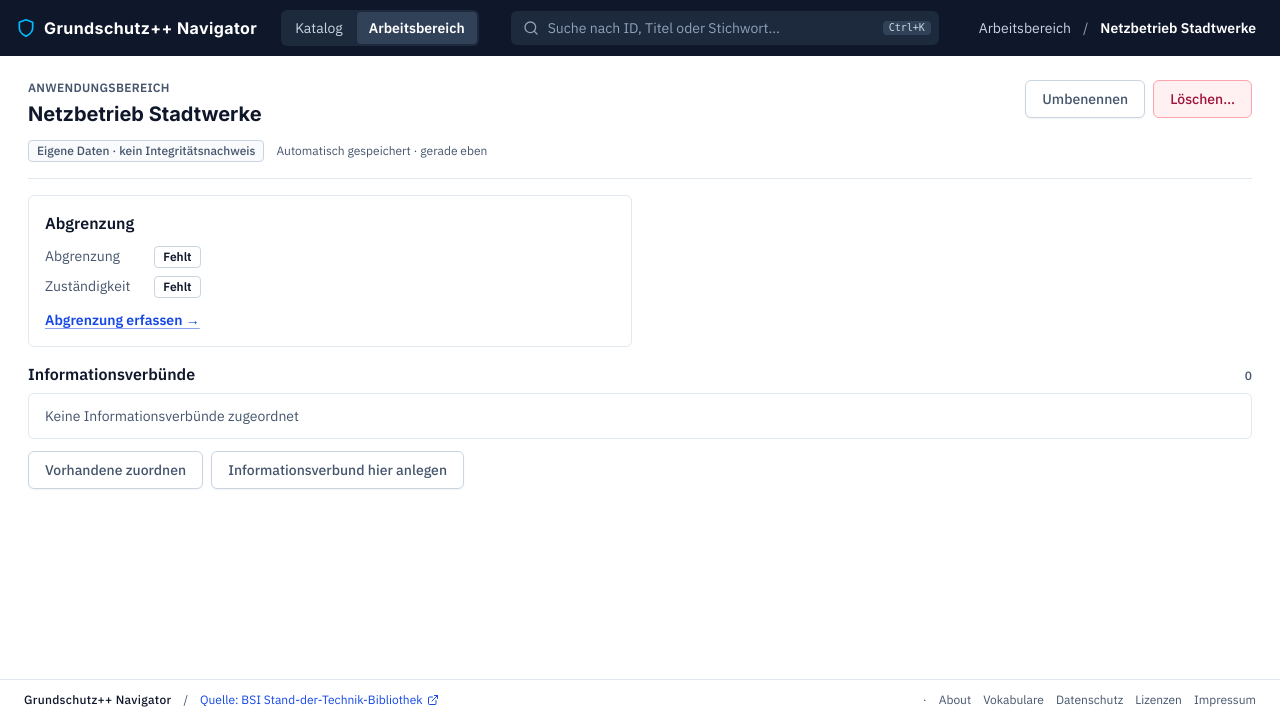
Test: Zuordnung im Arbeitsbereich › lädt die Auswahl nach einer Änderung aus „Bereits zugeordnet“ neu
This screenshot has width=1280, height=720.
Click the button "Vorhandene zuordnen" at (116, 470), box [28,451,203,489]
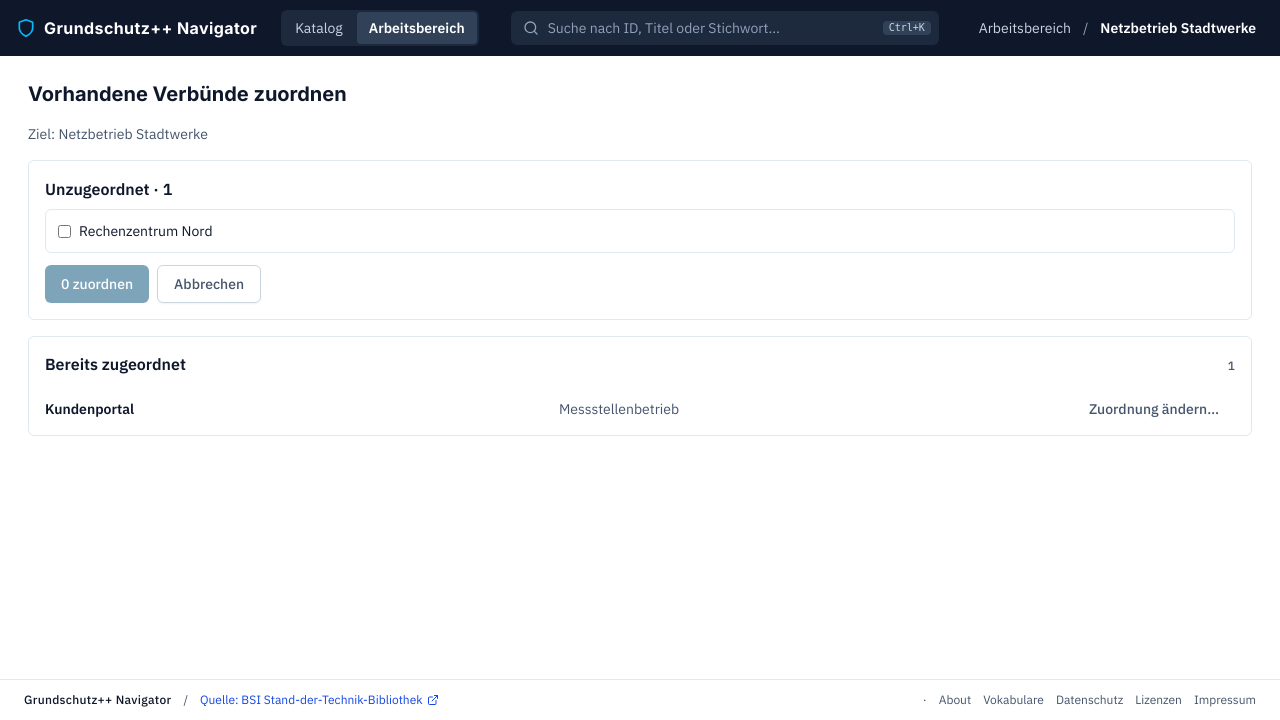
Click the button "Zuordnung ändern…" at (1154, 409), box [1073,391,1235,427]
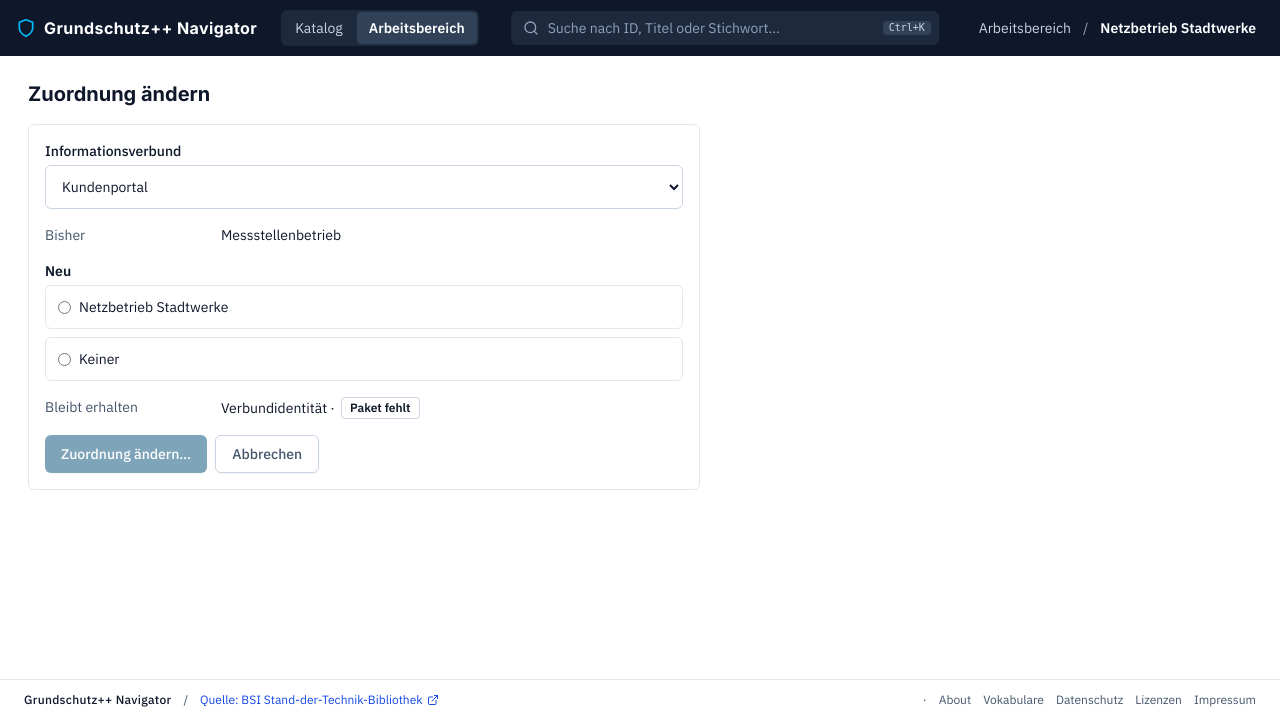
Click the radio button labelled "Keiner" at (64, 359), box [58,352,71,366]
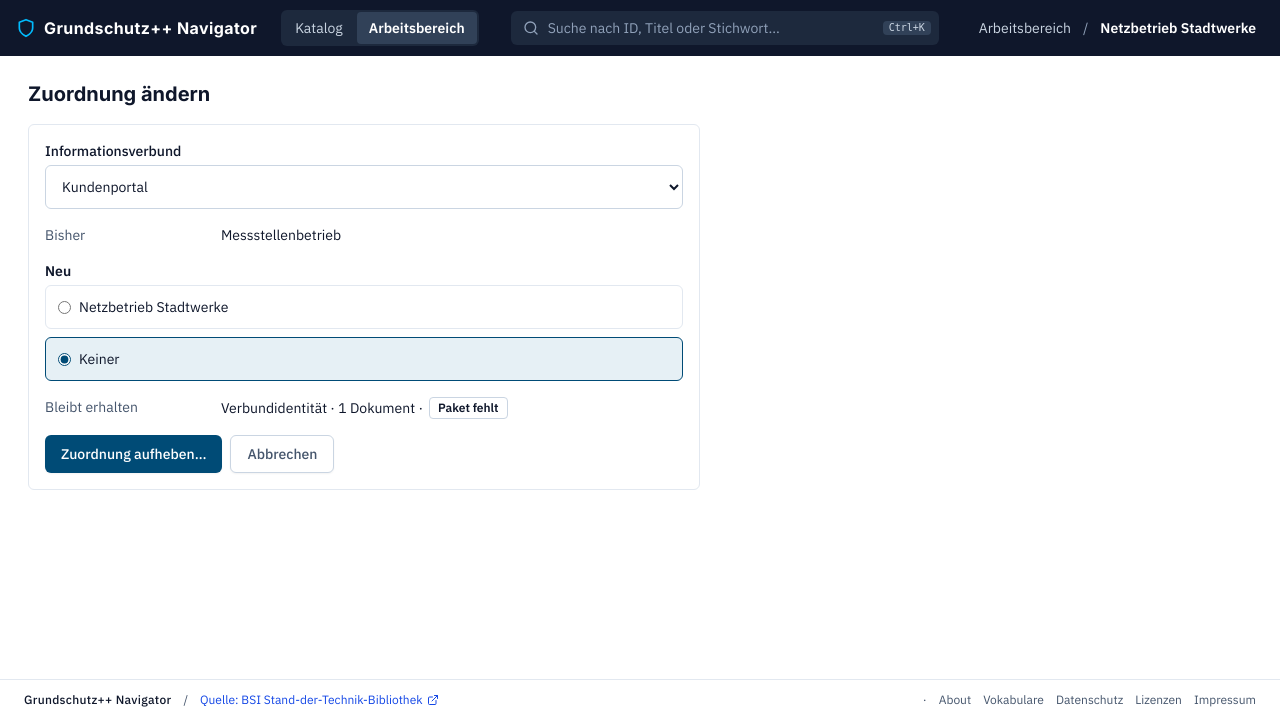
Now the button "Zuordnung aufheben…" is enabled
Click the button "Zuordnung aufheben…" at (134, 454), box [45,435,222,473]
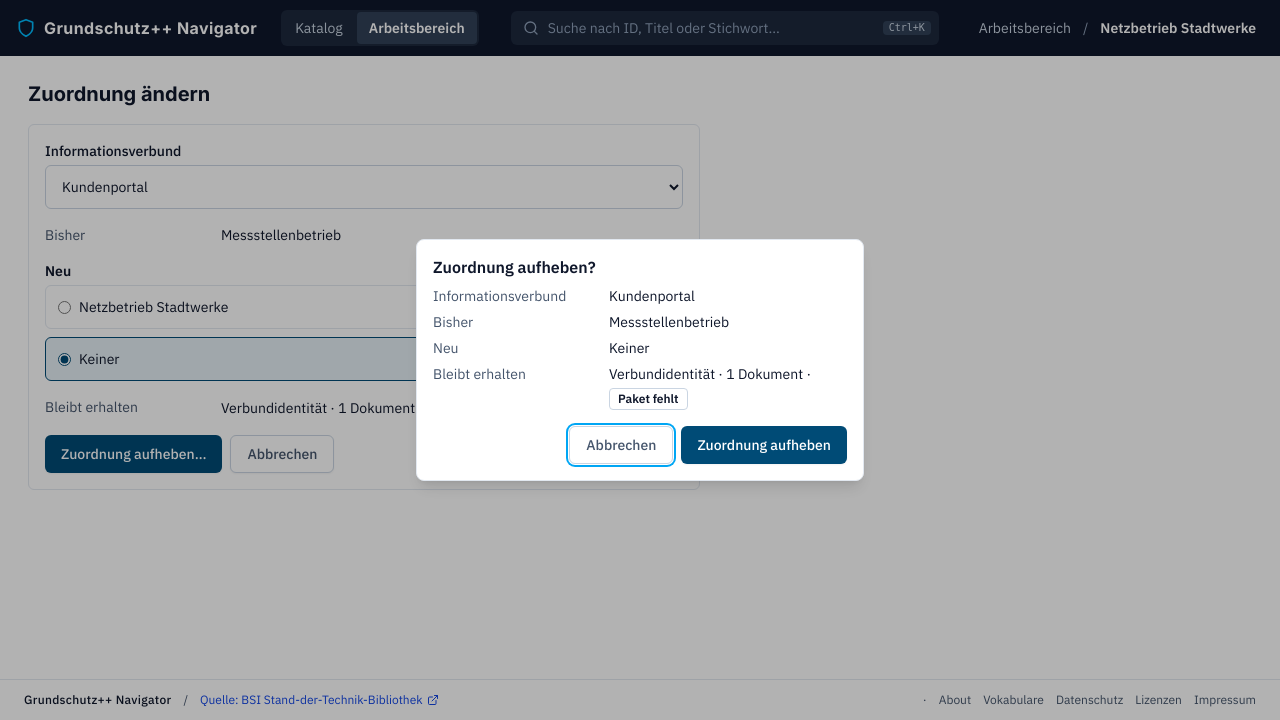
Click the button "Zuordnung aufheben" at (764, 445), box [681,426,847,464]
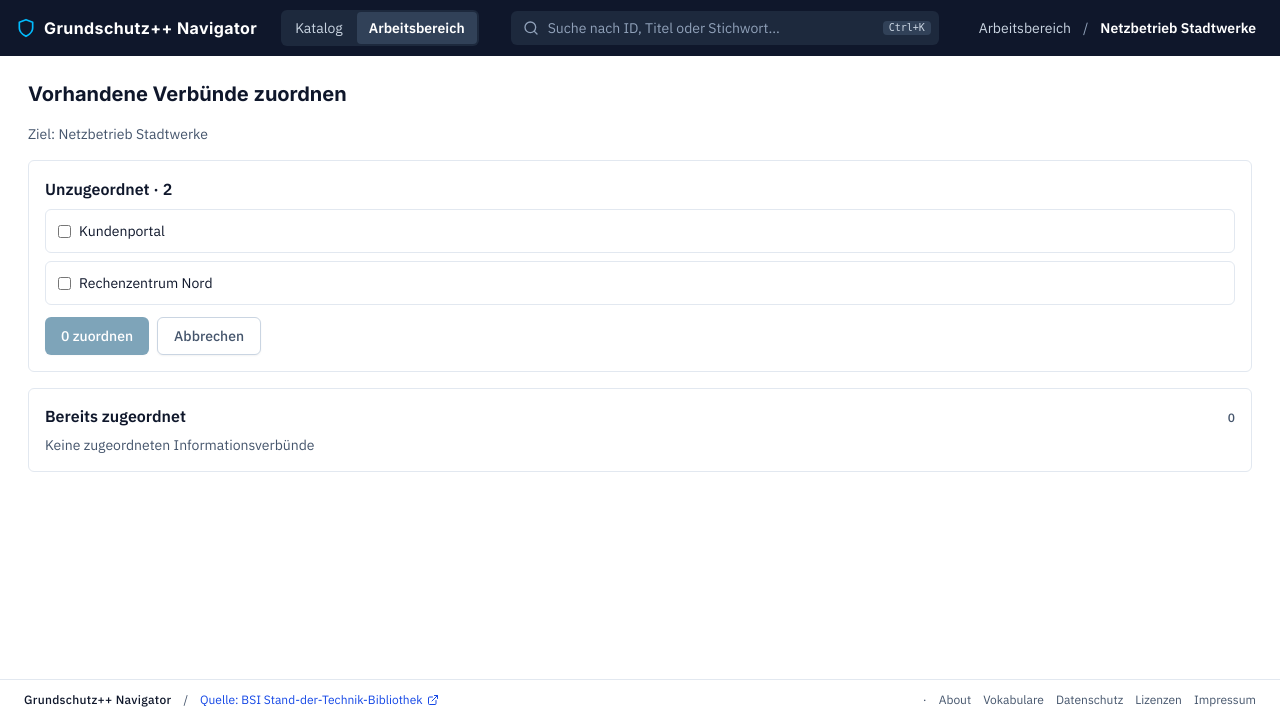
Now the checkbox labelled "Kundenportal" is shown, box [58,224,71,238]
